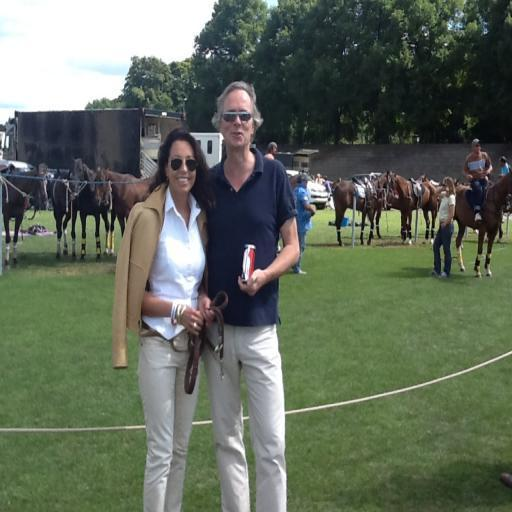horse: (328, 172, 512, 279), (0, 152, 156, 264), (454, 166, 510, 278), (93, 165, 160, 258), (0, 162, 48, 272), (331, 168, 389, 249), (69, 155, 111, 260), (384, 172, 438, 246), (49, 166, 81, 260)
